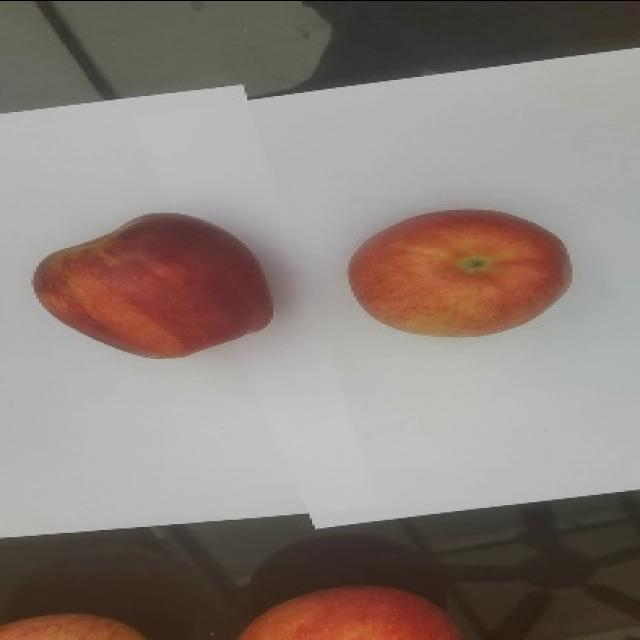Apple: (23, 209, 281, 362), (348, 205, 578, 336), (238, 581, 463, 640), (0, 605, 146, 640)
